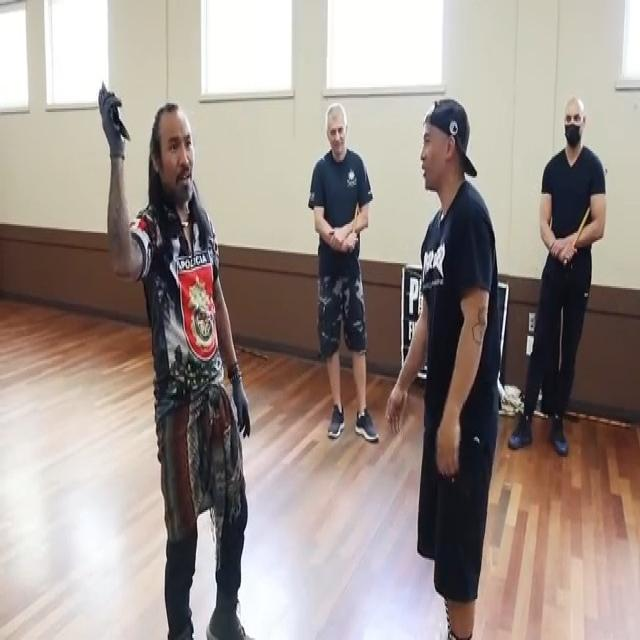Sharp-Object: (95, 80, 133, 145)
